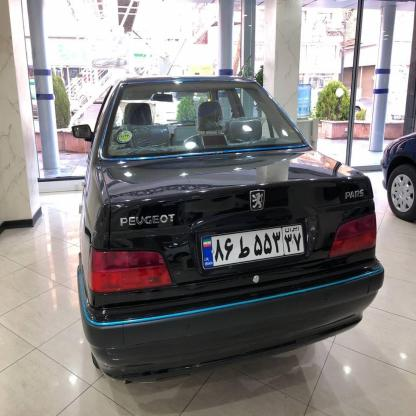Car: (78, 67, 374, 377), (369, 120, 416, 225)
